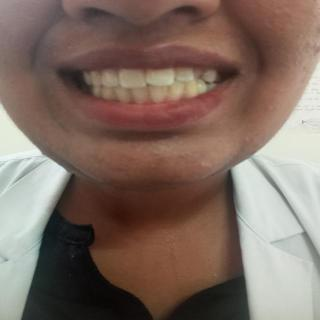maligned: (196, 76, 214, 97), (194, 65, 206, 81)
